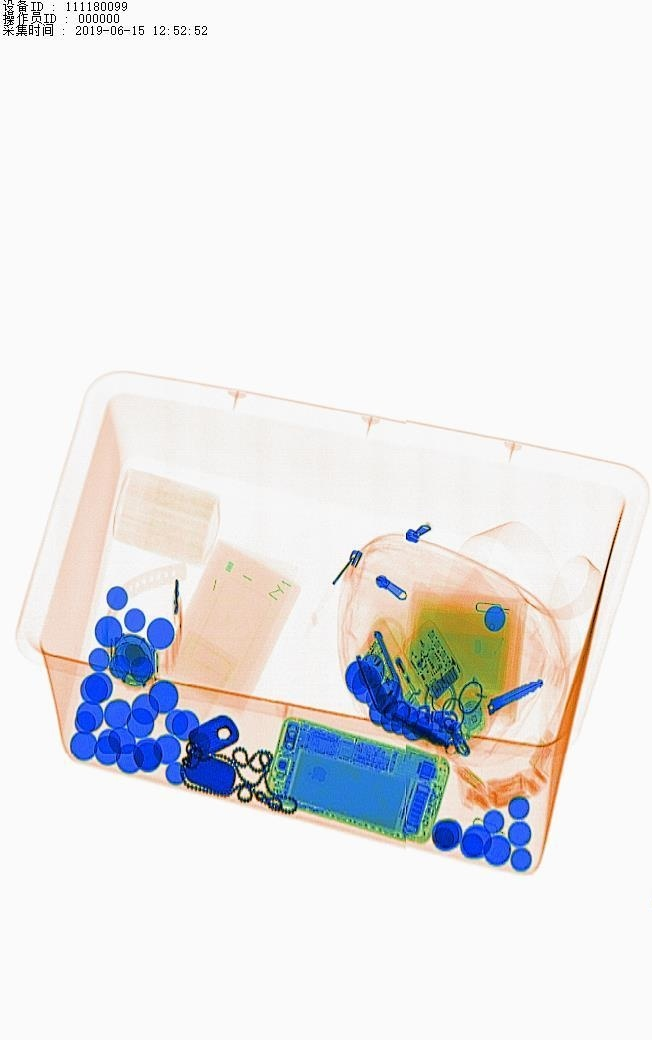NonmetallicFire: (370, 603, 432, 725)
